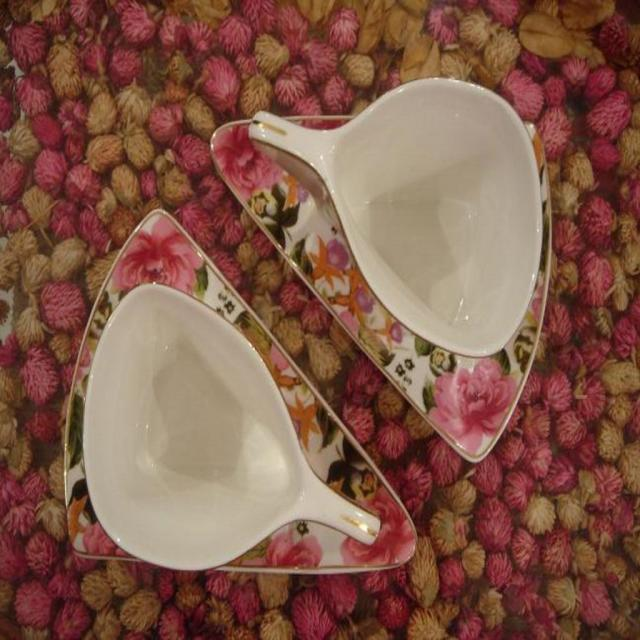non-organic waste: (41, 71, 585, 612)
